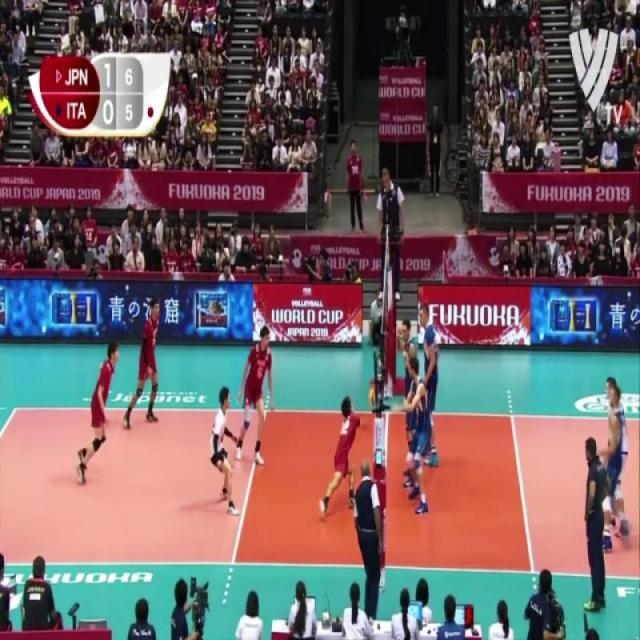volleyball: (367, 385, 378, 405)
